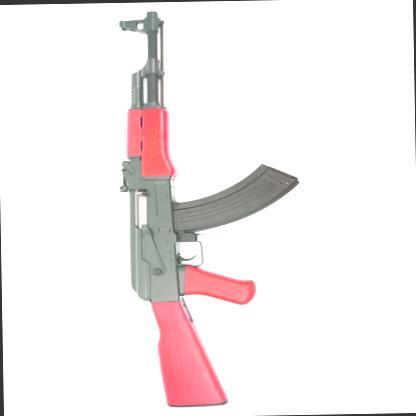rifle: (91, 7, 312, 407)
